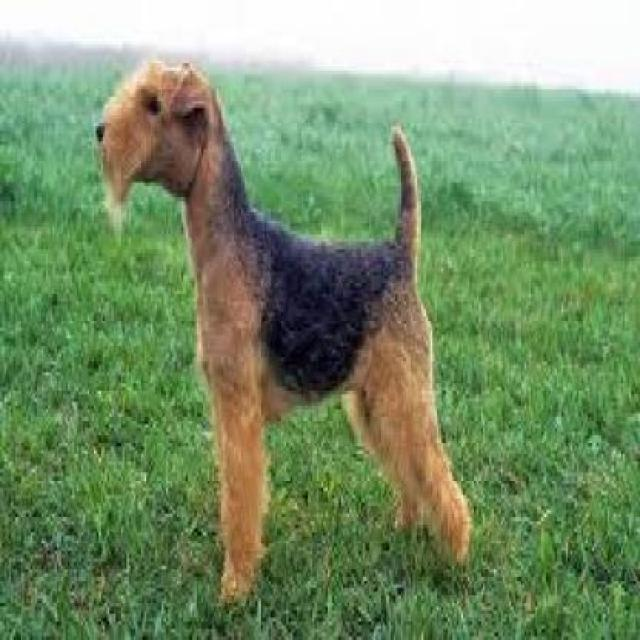animals: (70, 11, 513, 582)
